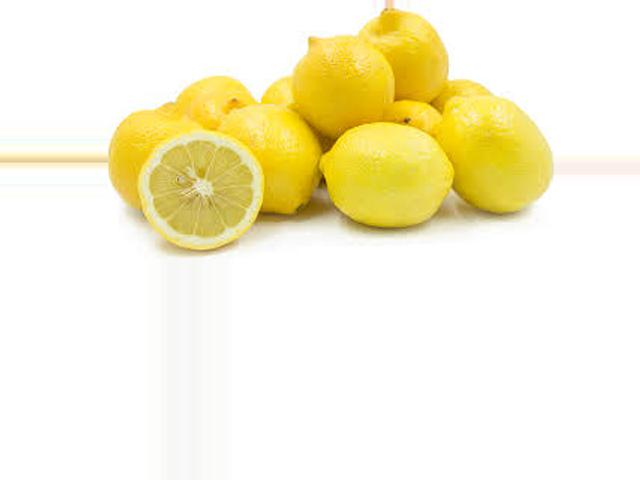lemon: (113, 107, 206, 206)
